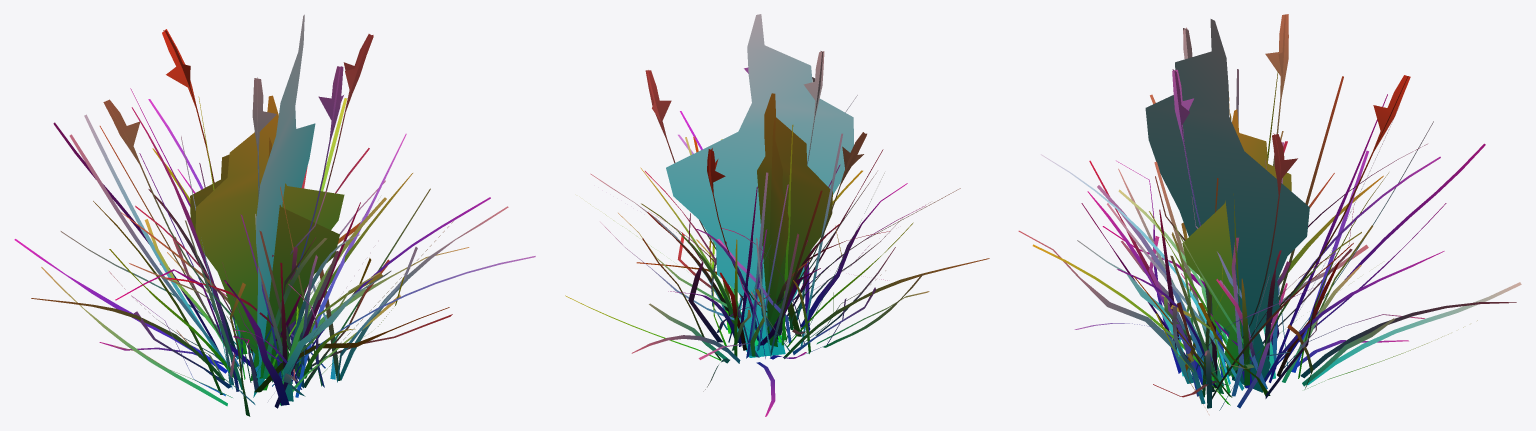
The model's file is Wild_Grass_vlkhcbxia_Mid_vlkhcbxia_VarA_LOD0.fbx.
3 renders of one model, left to right at view 1: azimuth 30°, elevation 25°; view 2: azimuth 150°, elevation 25°; view 3: azimuth 270°, elevation 25°, orthographic. The views are drawn at different scales.
Parts seen in each view (by area): view 1: _idqg_VarA_LOD1; view 2: _idqg_VarA_LOD1; view 3: _idqg_VarA_LOD1.
Part boxes in pixels (x1,y1,x2,y2): _idqg_VarA_LOD1: [14, 14, 535, 416]; _idqg_VarA_LOD1: [565, 14, 989, 416]; _idqg_VarA_LOD1: [1018, 14, 1521, 411].
Size of the model in its own units: 53.09 by 40.88 by 49.02.
